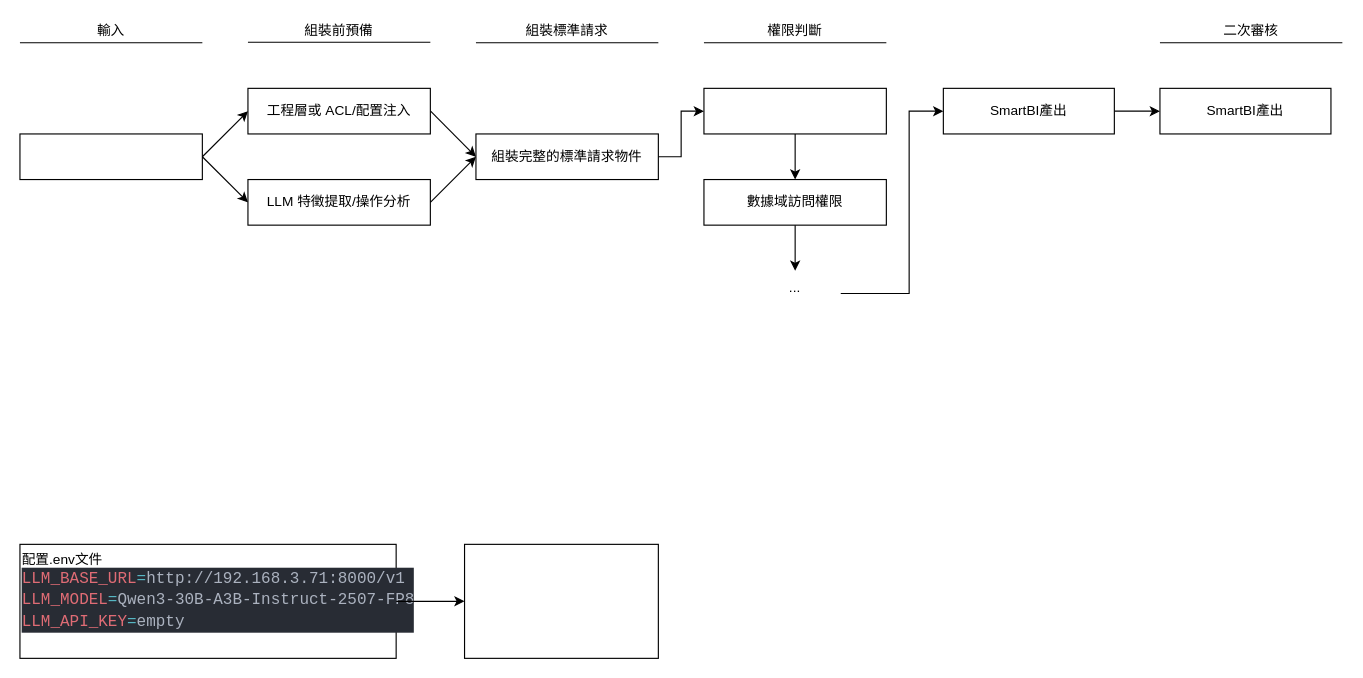
Some shapes in this 1363 by 678 pixel diagram are drawn without their labels. The shapes that lost their labels are listed below. From the top down, each one's centre as x and y in pixels, then its label:
At point 794,110: "用戶操作權限".
At point 110,156: "用戶輸入自然語言".
At point 560,600: "建立模型連線設定".
